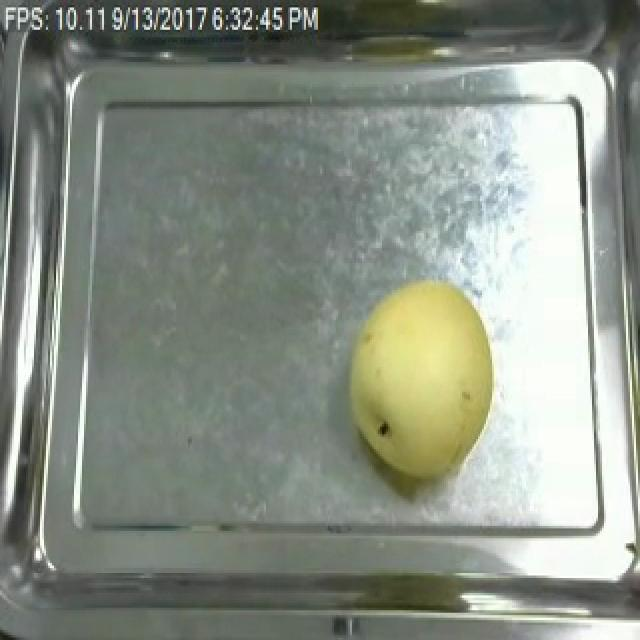Fruit: (334, 268, 504, 484)
